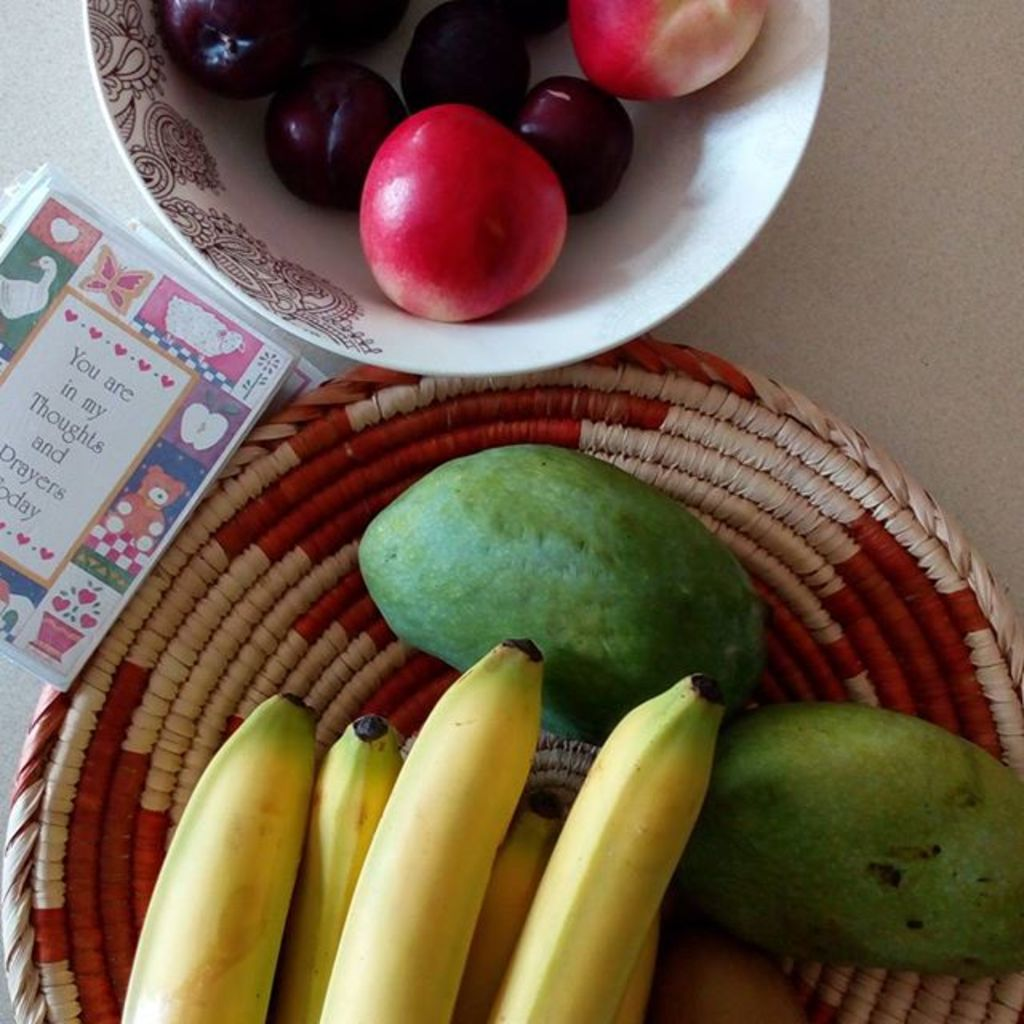Apple: (347, 118, 560, 334)
